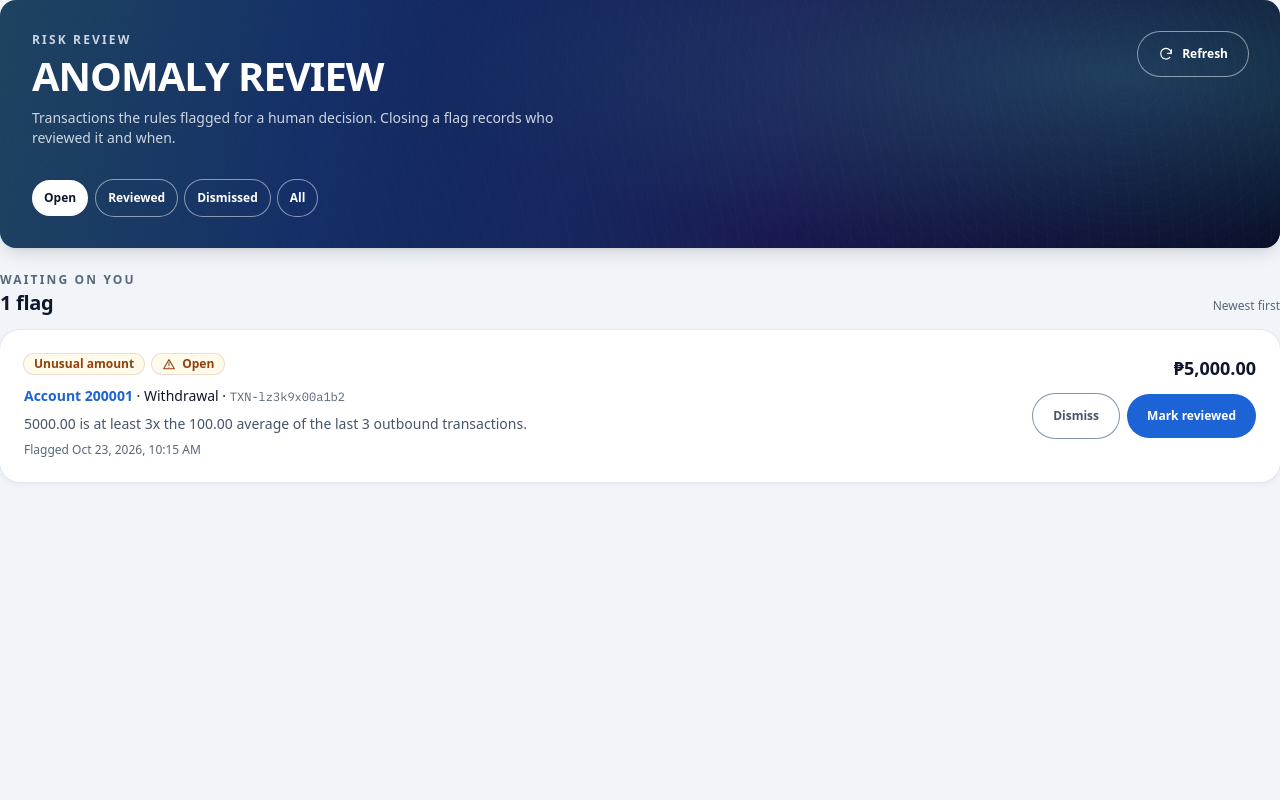
Test case: ReviewQueuePage › asks before closing a flag, then records the decision and reloads
This screenshot has width=1280, height=800.
Expected: the link "Account 200001" is shown, [24,386,133,405]
Click the button "Mark reviewed".
click(1192, 416)  # box [1127,394,1256,438]
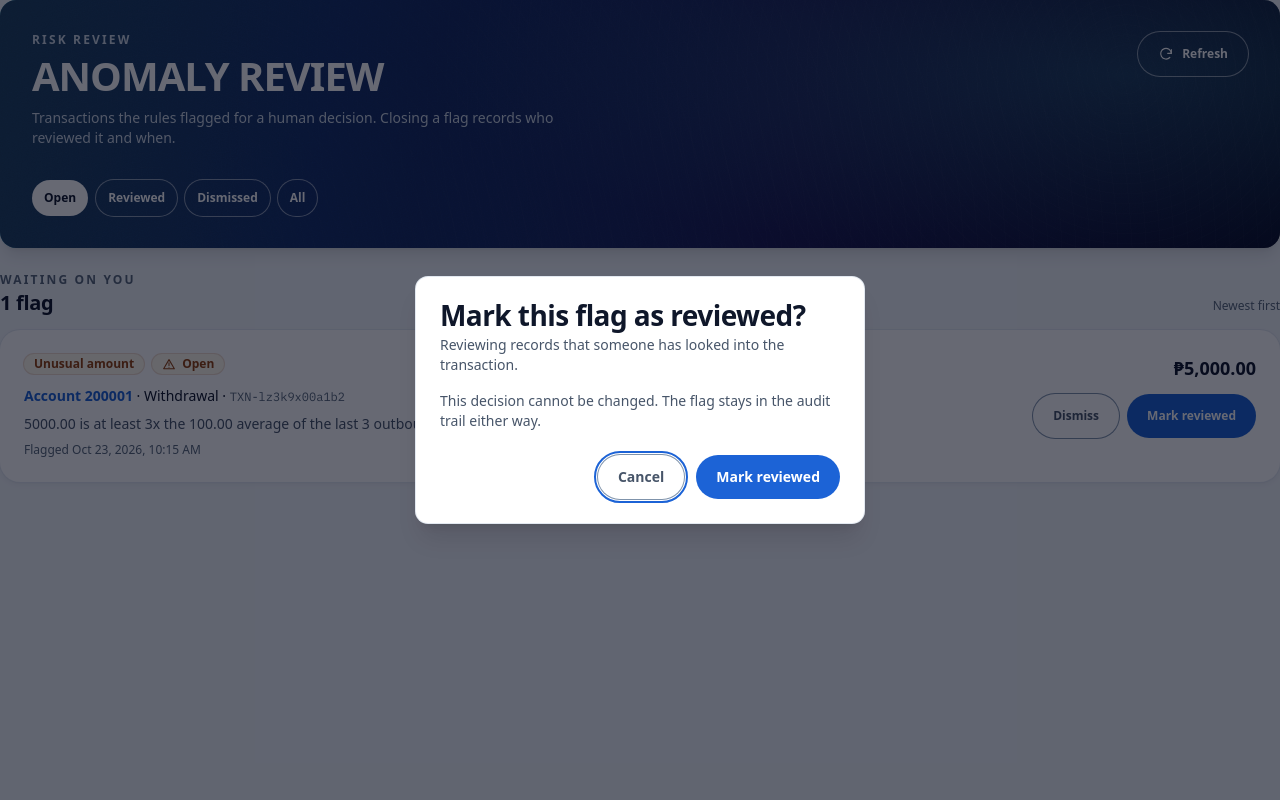
Expected: the heading "Mark this flag as reviewed?" is shown, [440,301,840,331]
Expected: the text "cannot be changed" is shown, [440,391,830,430]
Click the button "Mark reviewed".
click(768, 477)  # box [696,455,840,499]
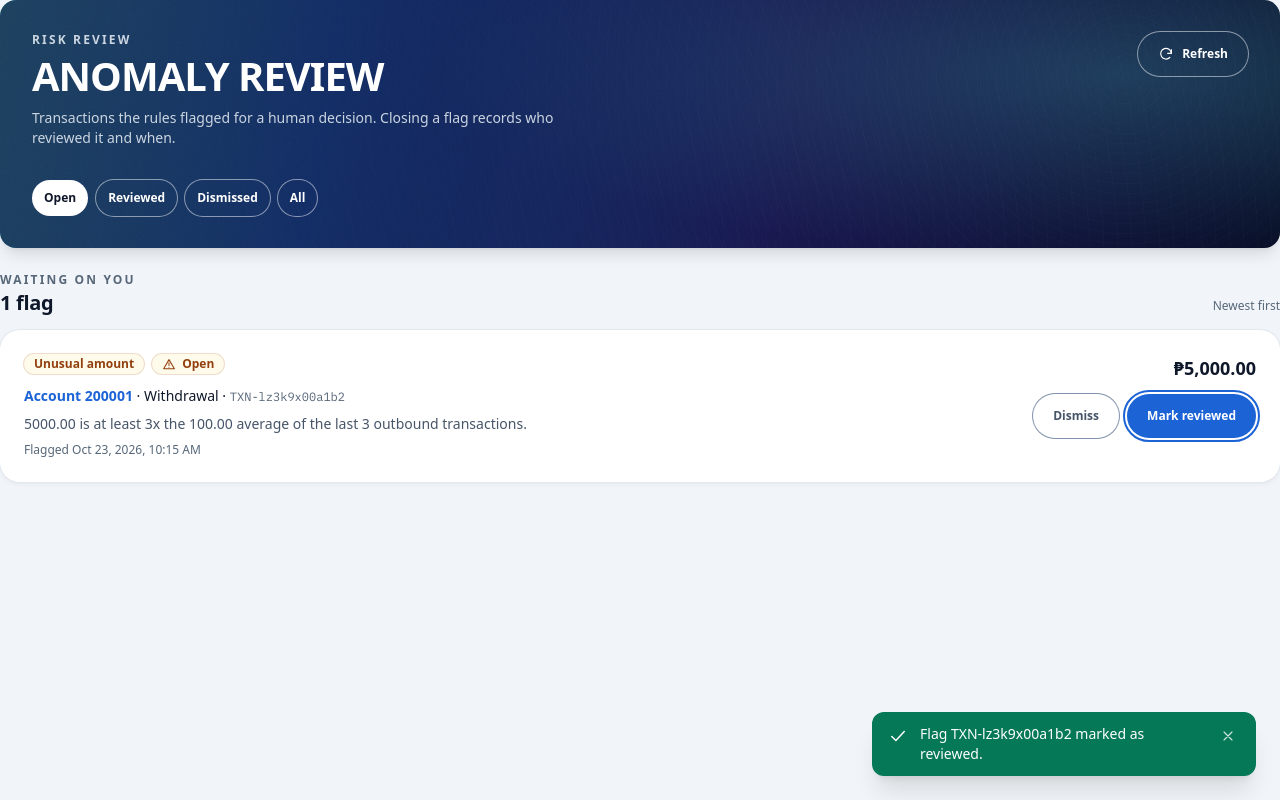
Expected: the message reads "Flag TXN-lz3k9x00a1b2 marked as reviewed.", [920,724,1144,763]
